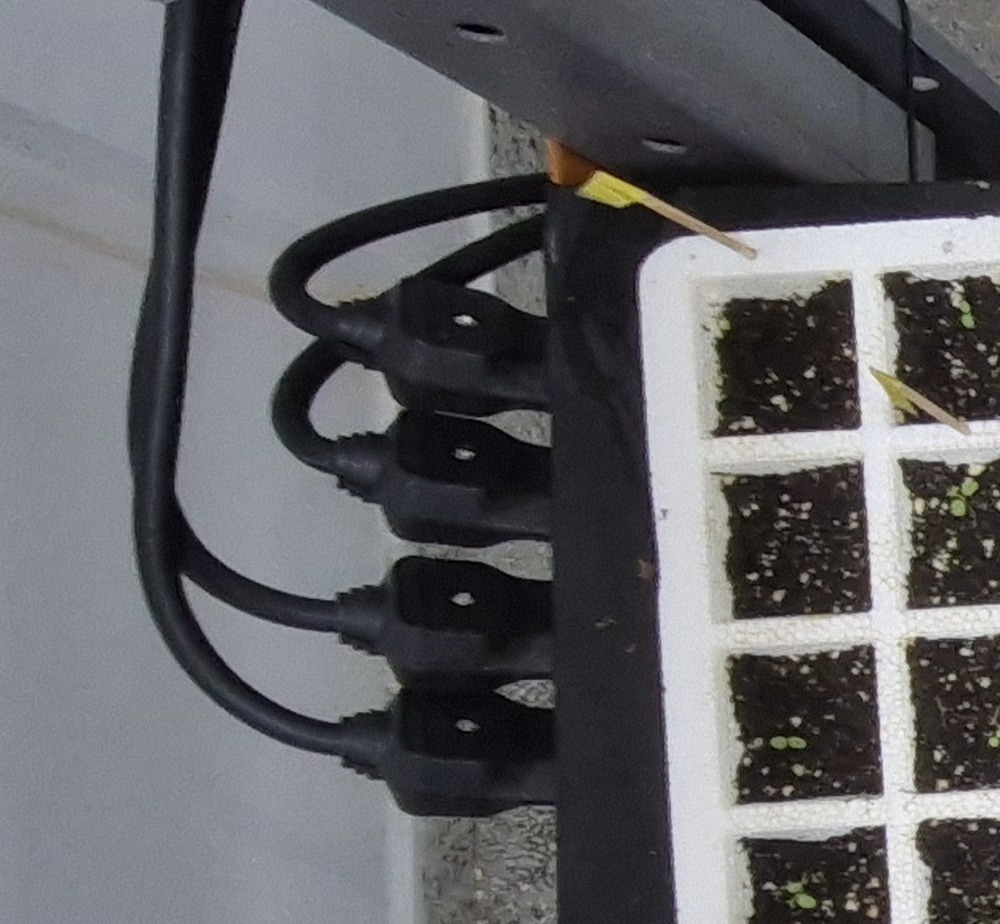Folha: (962, 478, 979, 496), (951, 500, 965, 516), (789, 737, 806, 749), (771, 737, 788, 748), (963, 314, 975, 328), (946, 487, 960, 497), (988, 737, 1000, 747), (960, 301, 970, 312)
Germinacao: (947, 477, 979, 516), (958, 301, 975, 330), (770, 736, 805, 750), (990, 729, 1000, 746)
